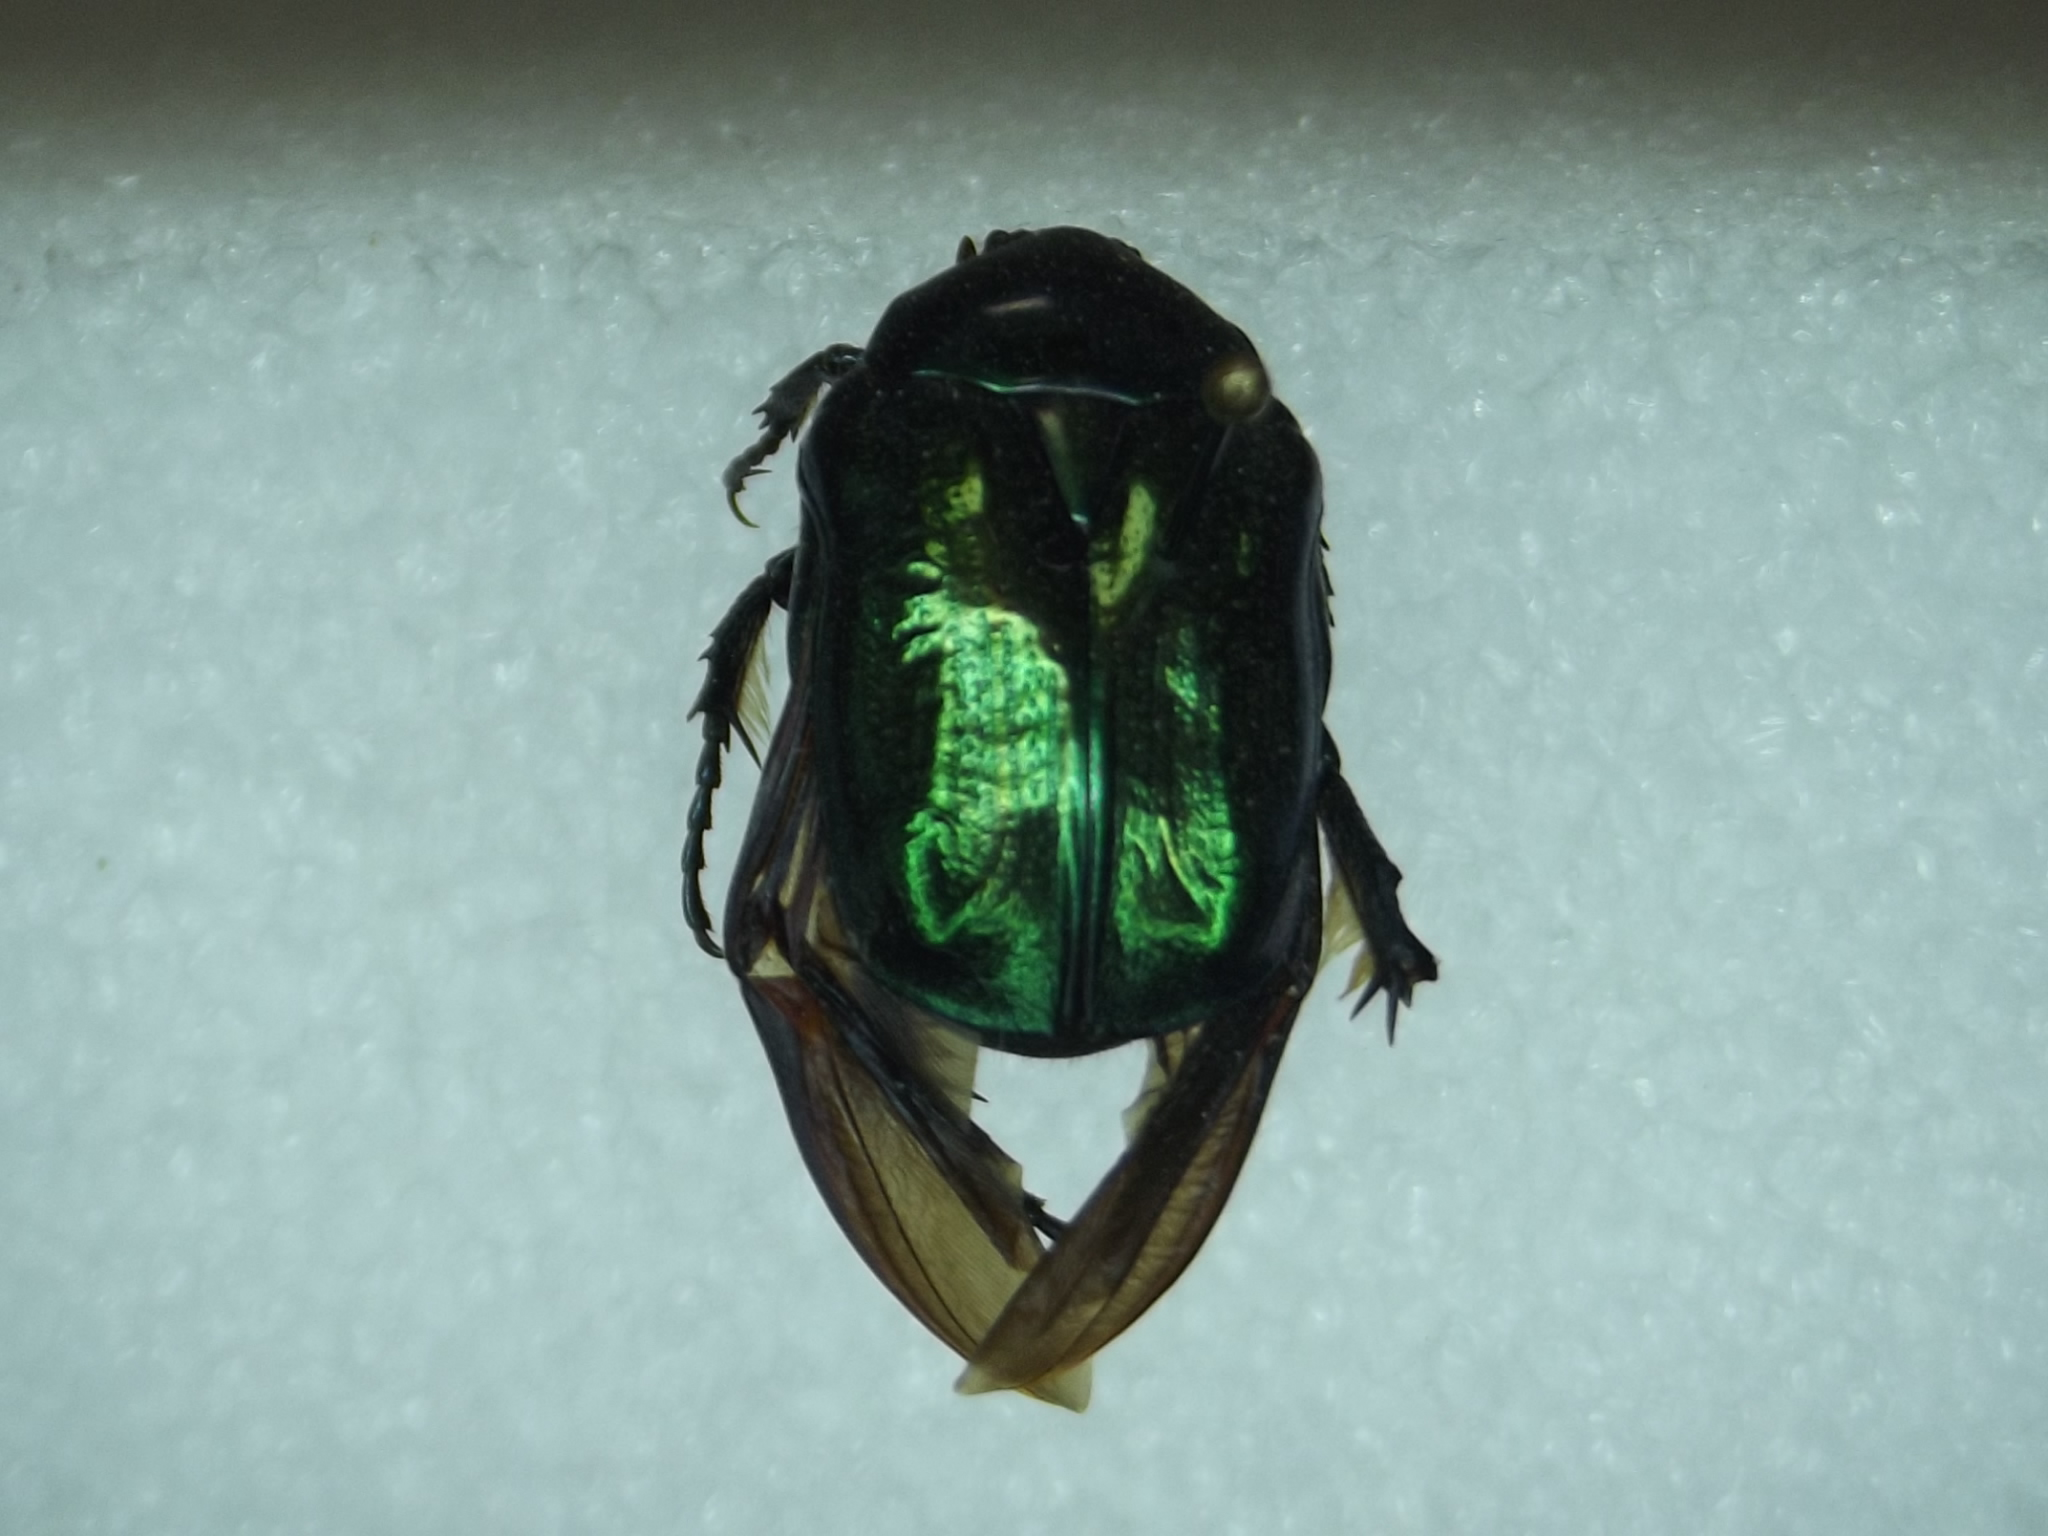Protaetia_angustata_angustata: (639, 208, 1453, 1421)
